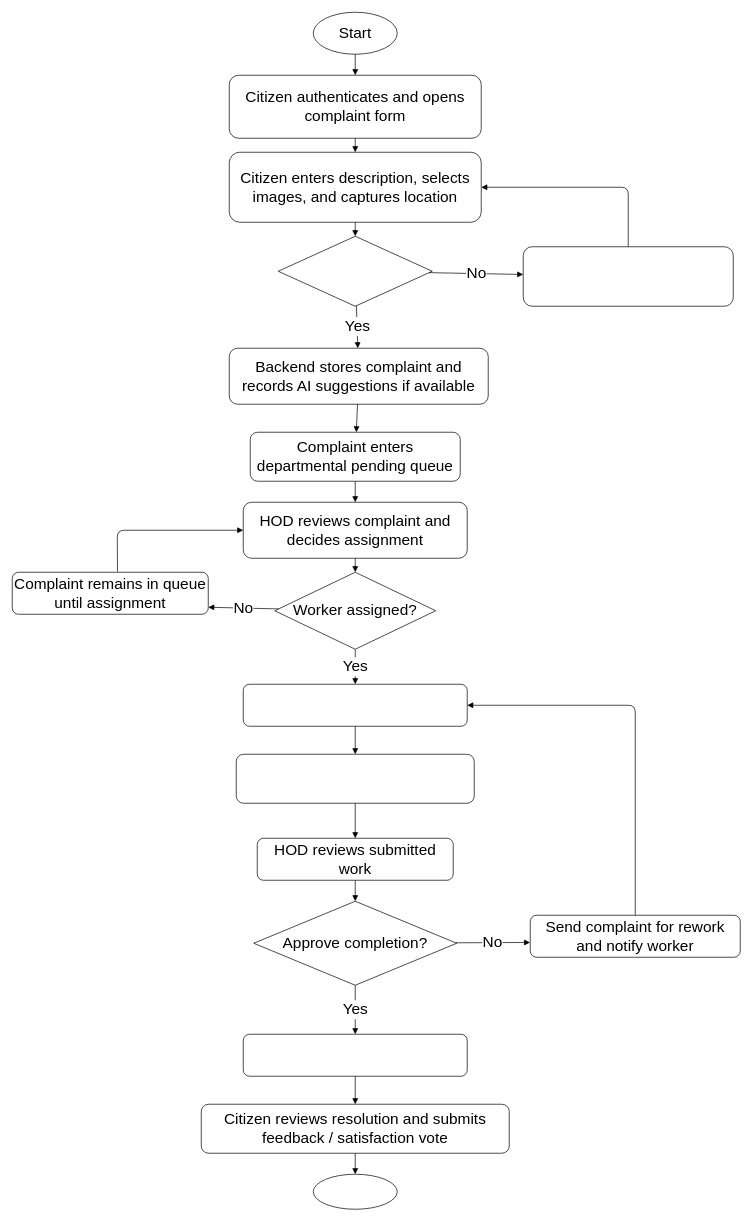
This 753x1222 diagram has some shape labels left out. Each missing label, with the centre of its shape:
"End" goes at (355,1191).
"Input valid?" goes at (355,271).
"Mark complaint resolved and notify citizen" goes at (355,1055).
"Show validation error and ask citizen to correct input" goes at (628,276).
"Worker updates status and uploads completion evidence" goes at (355,778).
"Worker views assigned complaint and starts work" goes at (355,705).
